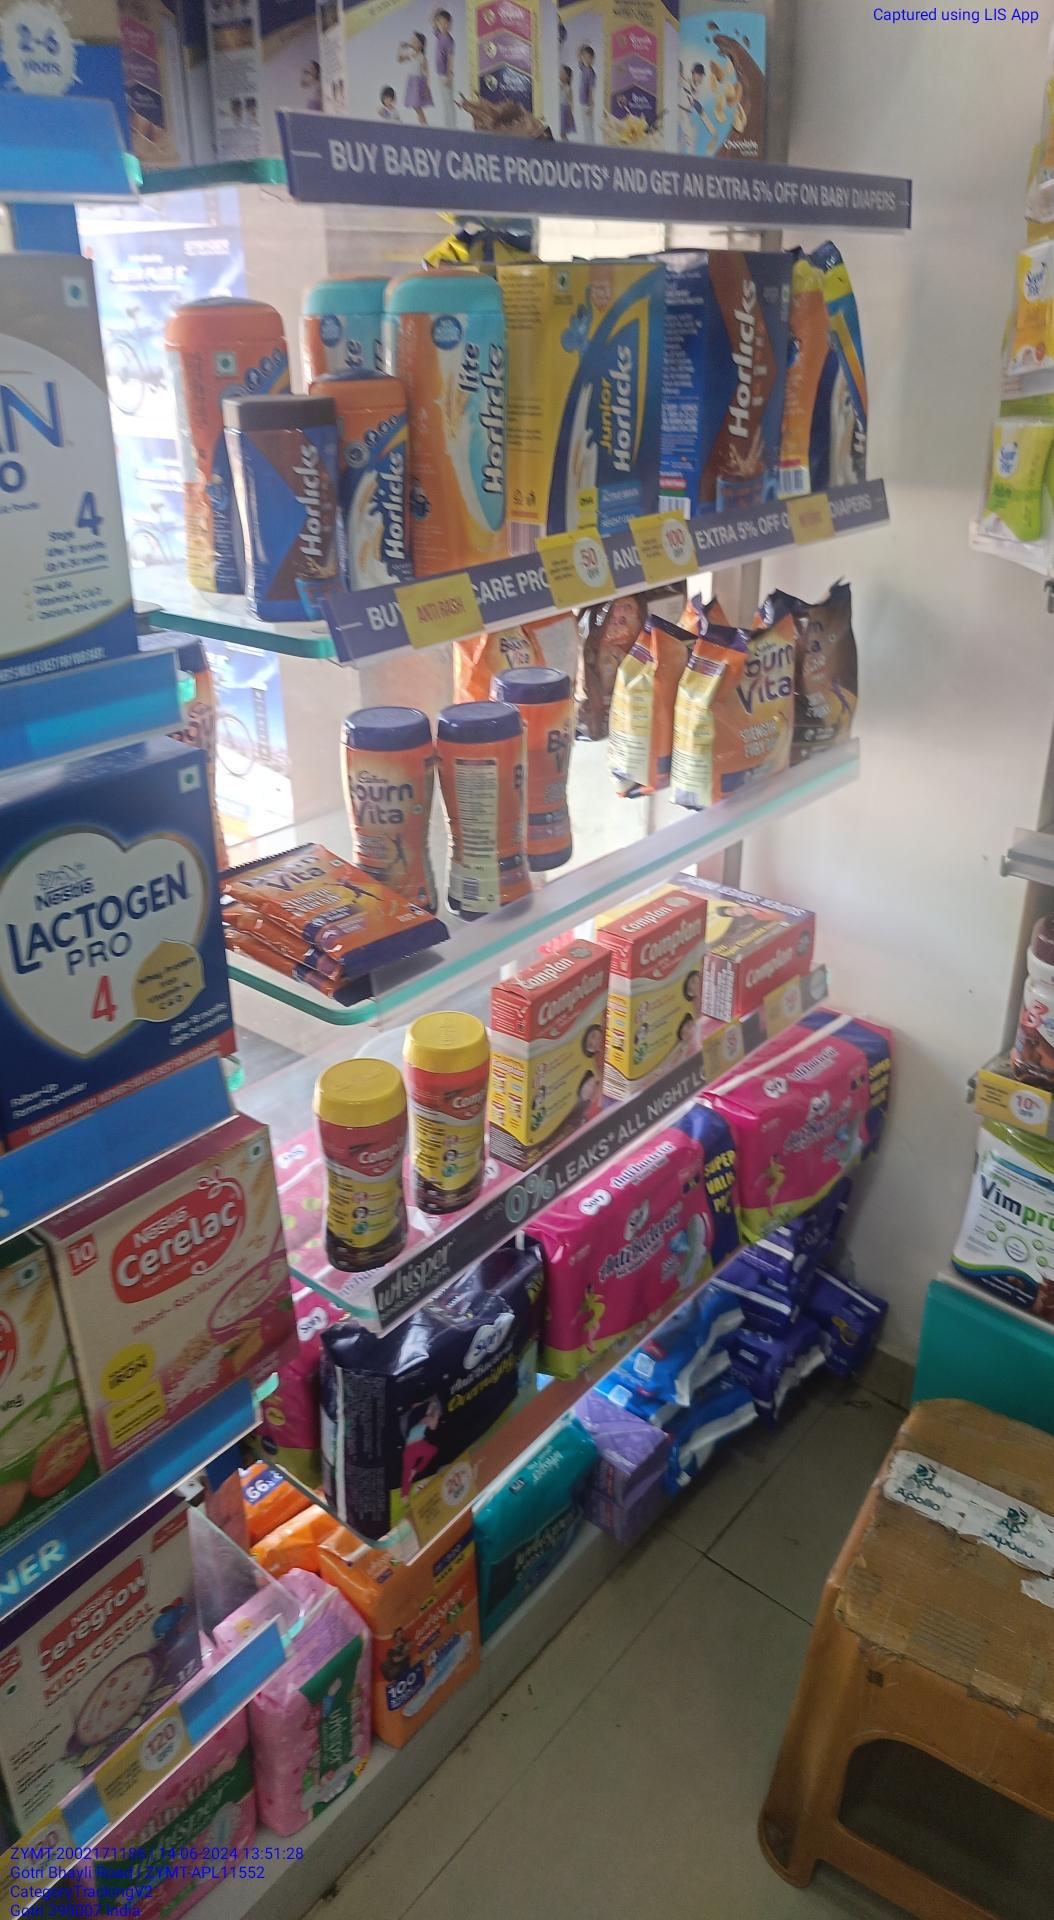BOURN_VITA_500_G_JAR: (340, 723, 434, 880)
BOURN_VITA_500_G_POUCH: (692, 633, 796, 784)
COMPLAN_CHOCOLATE_500_GMS_JAR: (315, 1072, 410, 1260), (417, 1031, 489, 1209)
COMPLAN_CHOCOLATE_500_GMS_PACK: (526, 966, 607, 1156)
COMPLAN_KESAR_BADAM_500_GMS_PACK: (624, 930, 704, 1068)
HORLICKS_LITE_REGULAR_MALT_500_GM_JAR: (411, 272, 510, 560)
HORLICK_CHOCOLATE_200_G_JAR: (228, 396, 339, 589)
HORLICK_CHOCOLATE_500_G_PACK: (696, 248, 792, 512)
HORLICK_CLASSIC_MALT_200_G_JAR: (347, 379, 406, 592)
